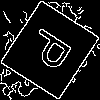P: (25, 25, 82, 78)
